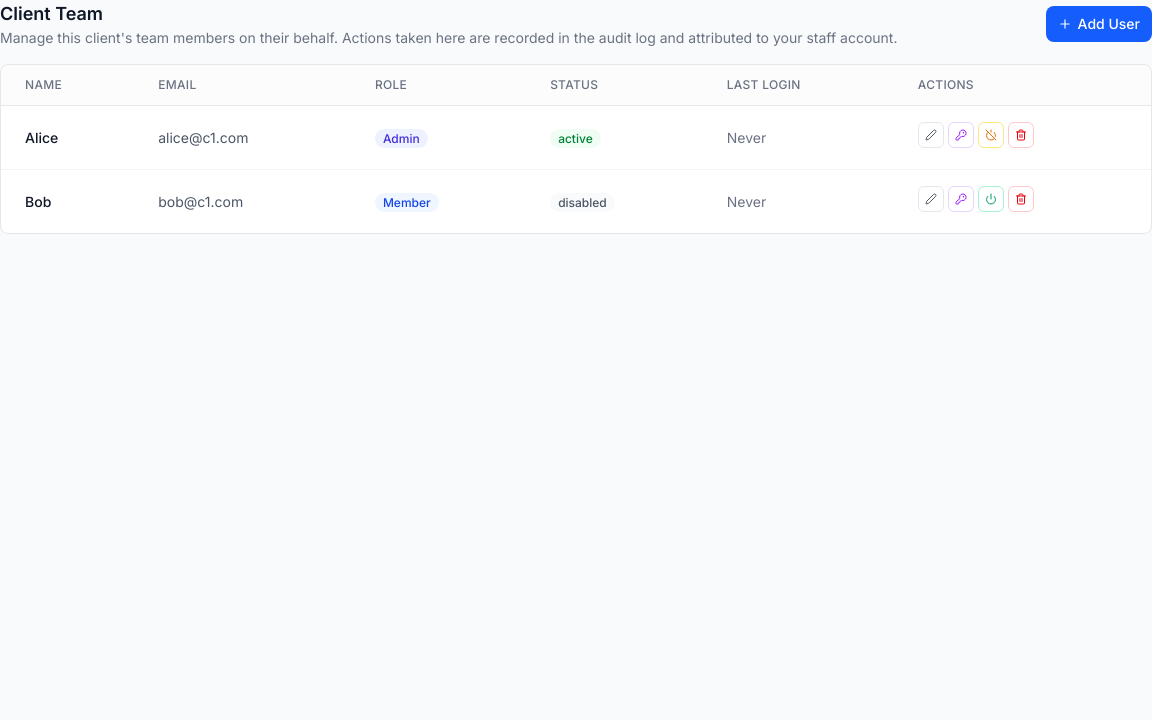
Test case: ClientUsersTab › with users › opens the reset password modal and validates mismatch
This screenshot has width=1152, height=720.
Click the button with test id "client-users-reset-u1" at (961, 135), box [948,122,974,148]
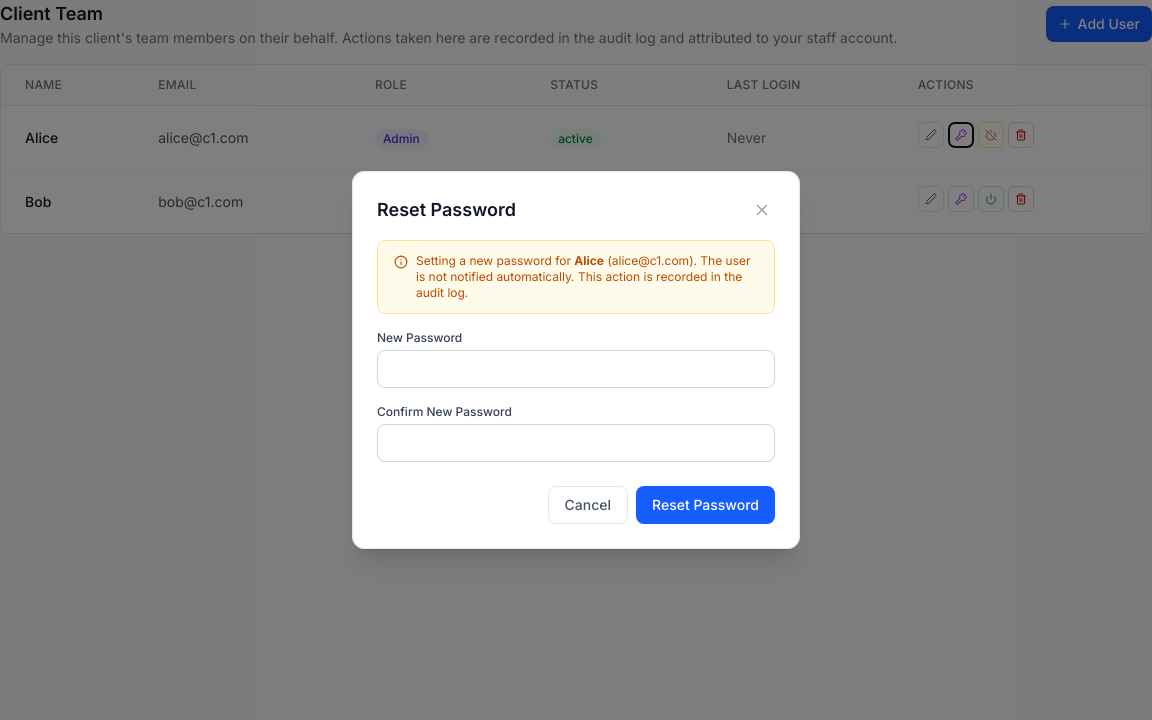
Result: the element with test id "client-users-reset-modal" is shown
Type "password123" into the password field with test id "client-users-reset-new-input" at (576, 369), box [377,350,775,388]
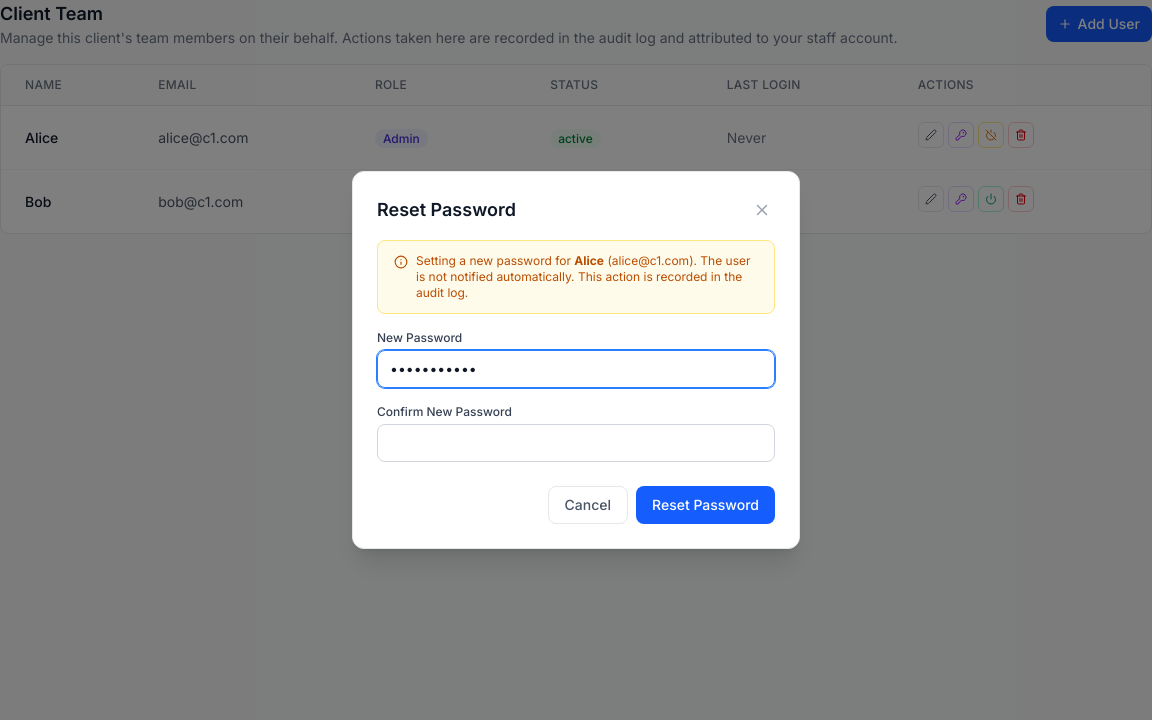
Type "different999" into the password field with test id "client-users-reset-confirm-input" at (576, 443), box [377,424,775,462]
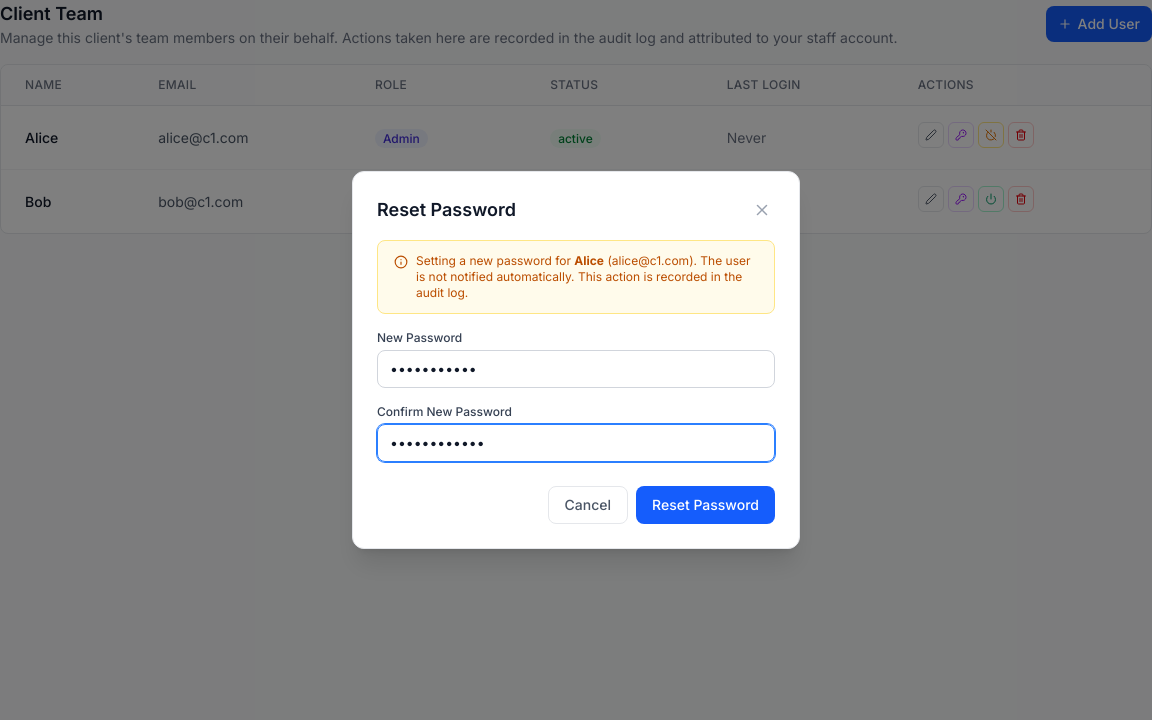
Click the button with test id "client-users-reset-save" at (706, 505), box [636,486,775,524]
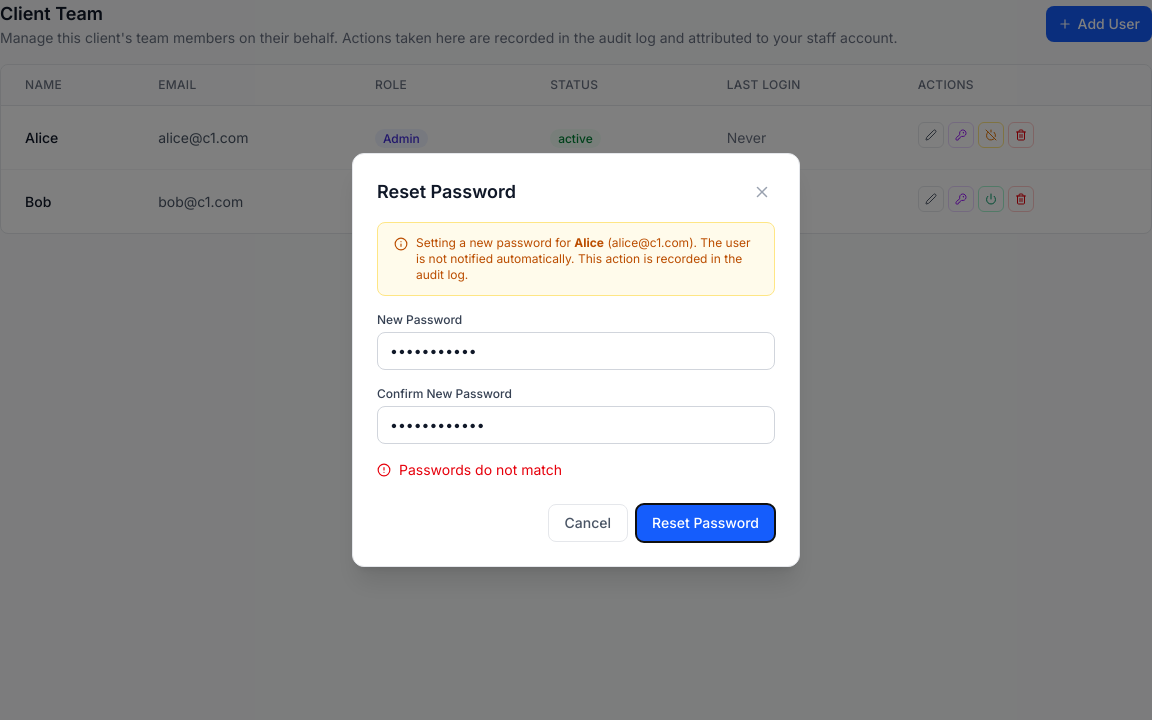
Result: the element with test id "client-users-reset-mismatch-error" is shown at [377,461,562,478]
